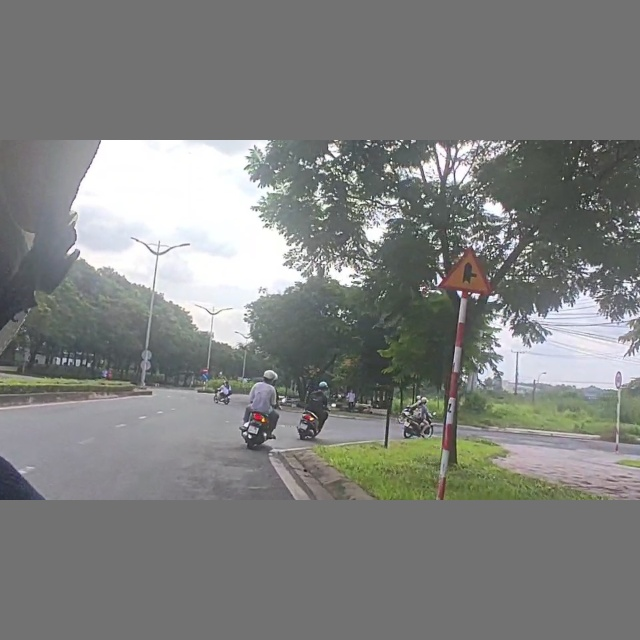W.207: (439, 245, 503, 299)
